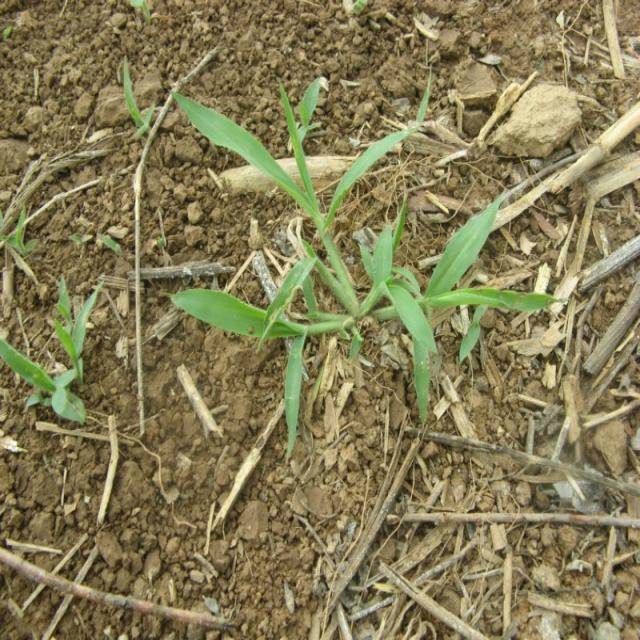bg: (172, 84, 563, 450)
